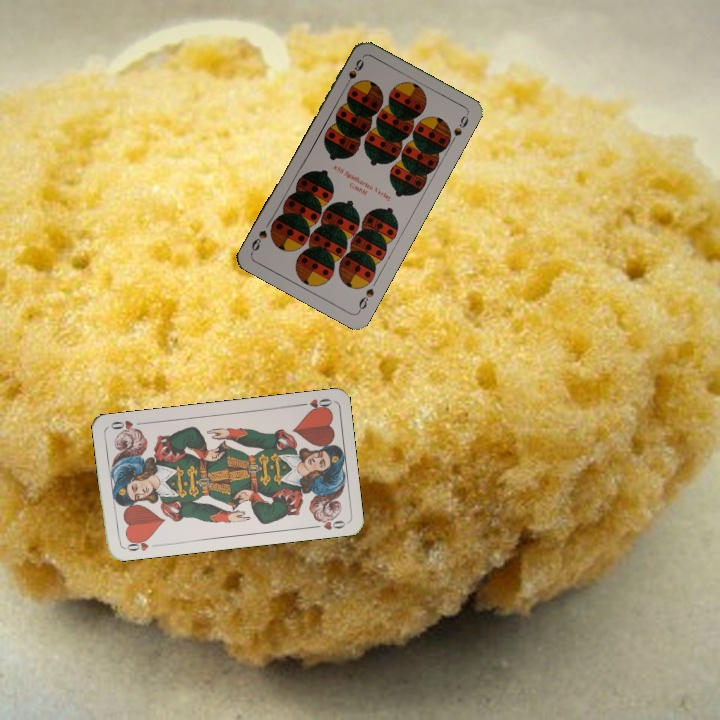HO: (120, 534, 161, 554), (294, 394, 334, 414)
S9: (340, 55, 367, 91), (354, 284, 377, 315)
